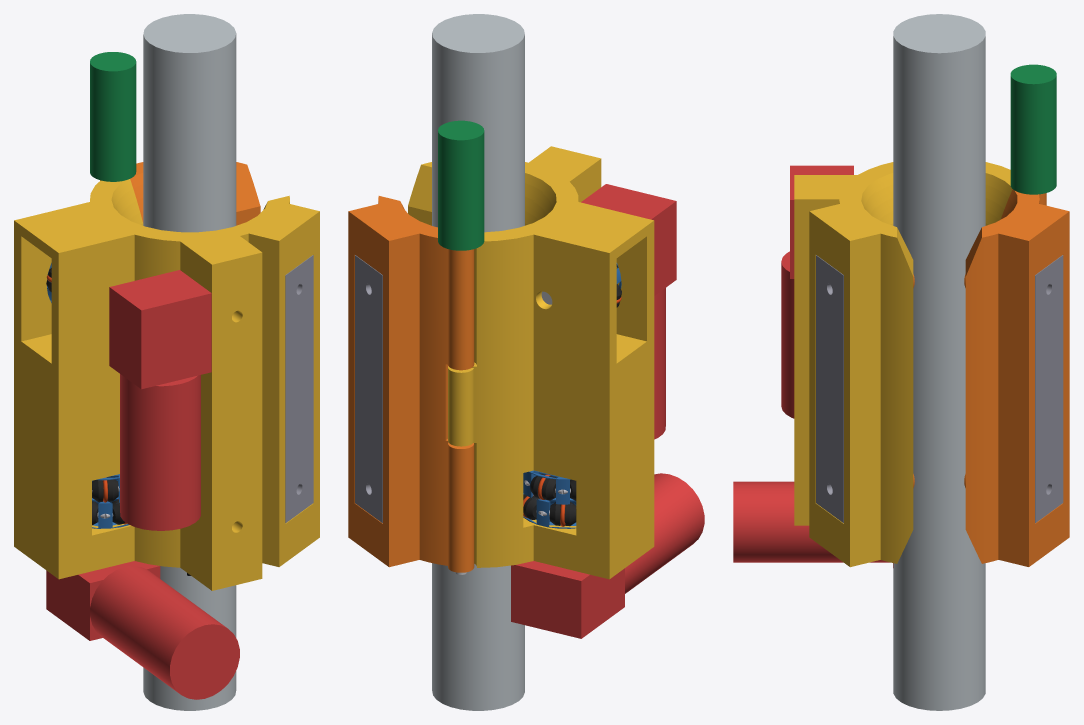
Rendered from hand-sleeve-v5.glb.
The picture shows the model from 3 angles, left to right: view 1: azimuth 30°, elevation 25°; view 2: azimuth 150°, elevation 25°; view 3: azimuth 270°, elevation 25°; orthographic projection.
Visible parts, largest first — view 1: sleeve, track_pipe, roll_motor, drive_motor, drive_gearbox, m60_cap, jaw_motor, roll_gearbox, jaw, jaw_gearbox, roll_wheel_rollers, roll_wheel_hub; view 2: sleeve, jaw, track_pipe, p60_cap, roll_gearbox, jaw_motor, roll_motor, drive_gearbox, drive_motor, jaw_gearbox, roll_wheel_rollers, roll_wheel_hub; view 3: track_pipe, sleeve, jaw, p60_cap, m60_cap, roll_motor, jaw_motor, drive_motor, jaw_gearbox, drive_gearbox.
Boxes of the visible parts, x1,y1,x2,y2 form: sleeve: (14, 179, 319, 590); track_pipe: (143, 14, 236, 710); roll_motor: (90, 565, 239, 699); drive_motor: (120, 374, 200, 530); drive_gearbox: (109, 270, 211, 389); m60_cap: (285, 255, 313, 523); jaw_motor: (90, 52, 136, 150); roll_gearbox: (46, 561, 160, 640); jaw: (100, 162, 260, 225); jaw_gearbox: (90, 141, 136, 181); roll_wheel_rollers: (92, 477, 125, 525); roll_wheel_hub: (92, 474, 129, 528); sleeve: (408, 146, 654, 579); jaw: (348, 196, 474, 572); track_pipe: (432, 14, 524, 710); p60_cap: (355, 255, 382, 523); roll_gearbox: (511, 561, 624, 638); jaw_motor: (438, 120, 484, 219); roll_motor: (625, 473, 704, 593); drive_gearbox: (581, 184, 676, 295); drive_motor: (654, 288, 665, 439); jaw_gearbox: (438, 210, 484, 250); roll_wheel_rollers: (523, 474, 576, 526); roll_wheel_hub: (523, 470, 576, 528); track_pipe: (893, 14, 985, 710); sleeve: (794, 162, 1012, 567); jaw: (965, 189, 1069, 566); p60_cap: (1035, 255, 1063, 523); m60_cap: (816, 255, 843, 523); roll_motor: (733, 481, 889, 562); jaw_motor: (1010, 64, 1056, 162); drive_motor: (781, 251, 794, 418); jaw_gearbox: (1010, 155, 1056, 194); drive_gearbox: (790, 165, 853, 278).
Bounding box in the file's own units: 94.95 × 250 × 116.
